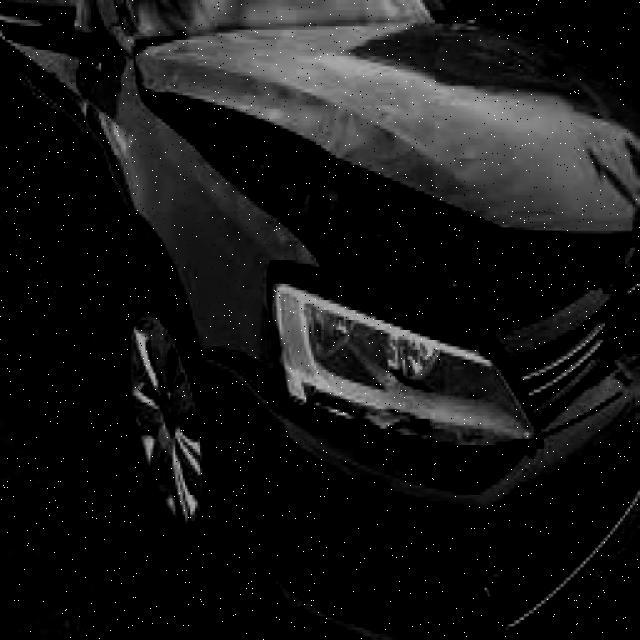car damage: (142, 81, 636, 423), (190, 344, 548, 490)
